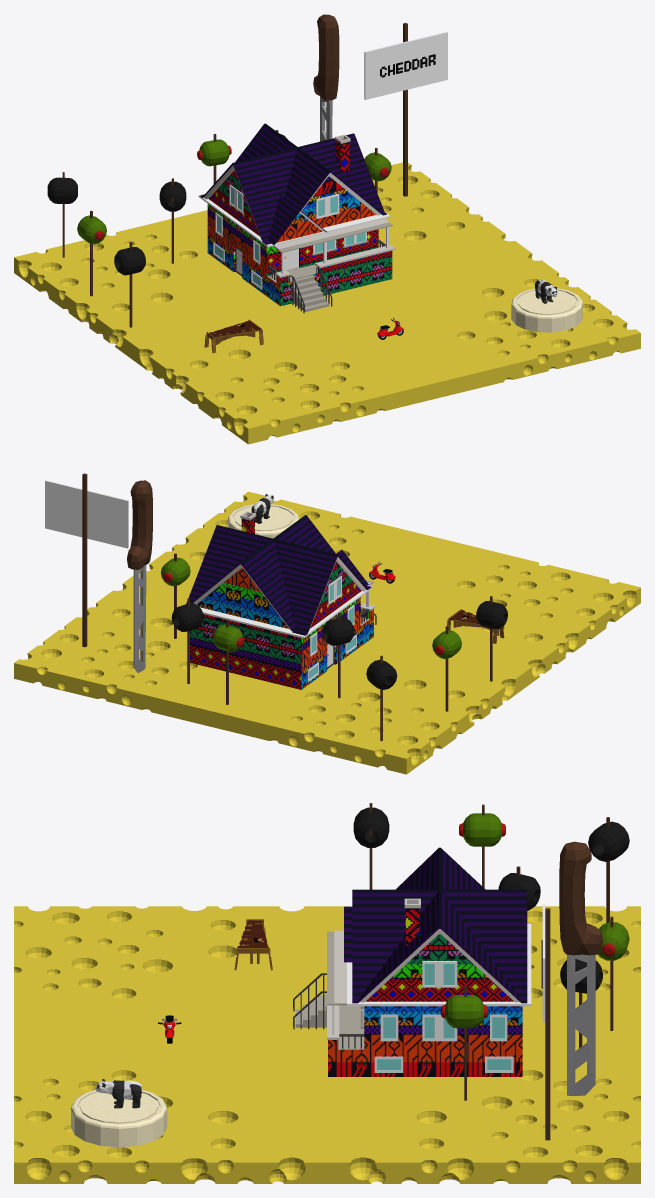
3 renders of one model, top to bottom at view 1: azimuth 30°, elevation 25°; view 2: azimuth 150°, elevation 25°; view 3: azimuth 270°, elevation 25°, orthographic. The views are drawn at different scales.
Visible parts, largest first — view 1: Cube.022, Cube.966, Cube.023, Cylinder.016, Cube.024, Sphere.017, Sphere.016, Sphere.020, OBJRANDOM_MARIMBA, Sphere.018, Sphere.022, Sphere.019; view 2: Cube.022, Cube.966, Cube.023, Cube.024, Cylinder.016, Sphere.017, Sphere.020, Sphere.021, Sphere.016, Sphere.018, Sphere.022, Sphere.019 (+1 smaller); view 3: Cube.022, Cube.966, Cube.024, Cylinder.016, Cube.023, Sphere.019, Sphere.016, Sphere.018, Sphere.017, Sphere.022, OBJRANDOM_MARIMBA, ANIMAL_PANDA (+2 smaller).
Part boxes in pixels (x1,y1,x2,y2): Cube.022: (14, 162, 640, 444); Cube.966: (198, 123, 395, 313); Cube.023: (364, 23, 447, 196); Cylinder.016: (511, 288, 582, 332); Cube.024: (313, 14, 339, 141); Sphere.017: (114, 242, 145, 327); Sphere.016: (47, 172, 77, 257); Sphere.020: (159, 178, 186, 263); OBJRANDOM_MARIMBA: (204, 319, 263, 353); Sphere.018: (77, 210, 106, 296); Sphere.022: (197, 134, 231, 183); Sphere.019: (364, 148, 391, 192); Cube.022: (14, 491, 640, 774); Cube.966: (185, 511, 376, 689); Cube.023: (45, 473, 128, 647); Cube.024: (127, 480, 152, 672); Cylinder.016: (228, 504, 298, 538); Sphere.017: (476, 596, 507, 681); Sphere.020: (322, 612, 354, 698); Sphere.021: (171, 598, 203, 683); Sphere.016: (366, 655, 397, 741); Sphere.018: (432, 626, 461, 711); Sphere.022: (212, 619, 244, 704); Sphere.019: (160, 553, 190, 638); Cube.022: (14, 906, 640, 1183); Cube.966: (293, 847, 531, 1076); Cube.024: (559, 841, 602, 1095); Cylinder.016: (71, 1089, 167, 1147); Cube.023: (541, 904, 550, 1140); Sphere.019: (441, 986, 487, 1100); Sphere.016: (588, 817, 629, 922); Sphere.018: (459, 804, 505, 887); Sphere.017: (353, 803, 389, 889); Sphere.022: (598, 916, 629, 1030); OBJRANDOM_MARIMBA: (234, 919, 272, 970); ANIMAL_PANDA: (95, 1079, 141, 1108).
Bounding box in the file's own units: 3917 × 2108 × 4000.
38 materials, 7 textured.
